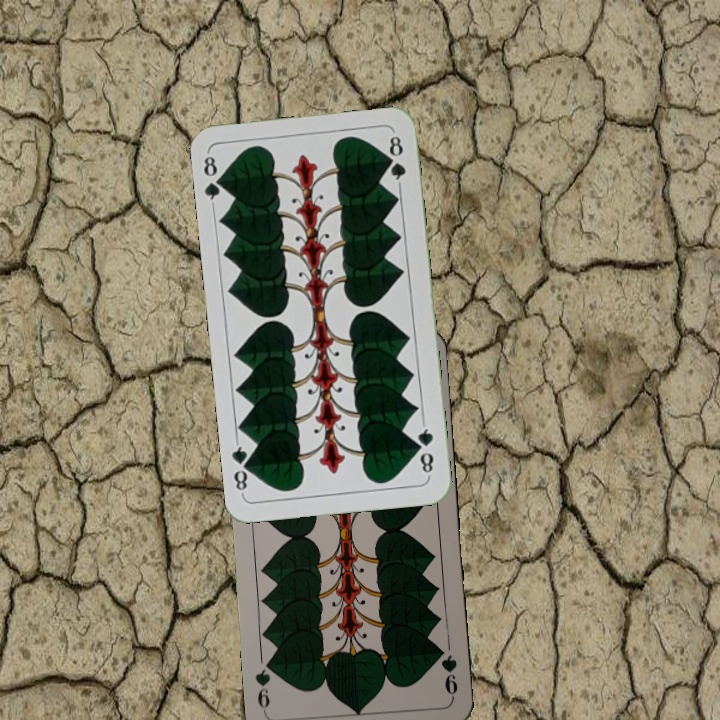G8: (199, 150, 228, 209), (412, 420, 437, 479)
G9: (433, 643, 461, 701)
